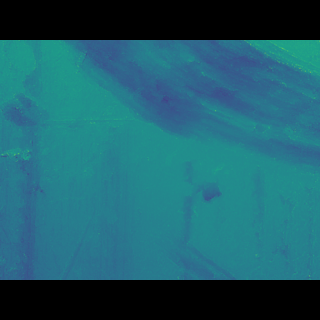Loch: (41, 69, 320, 183), (140, 206, 245, 250), (55, 194, 98, 250)
